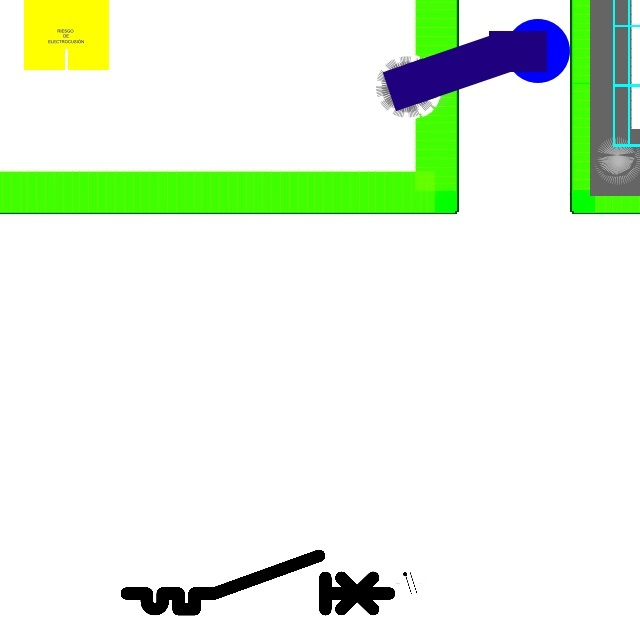interruptor_termomagnetico: (120, 549, 395, 616)
